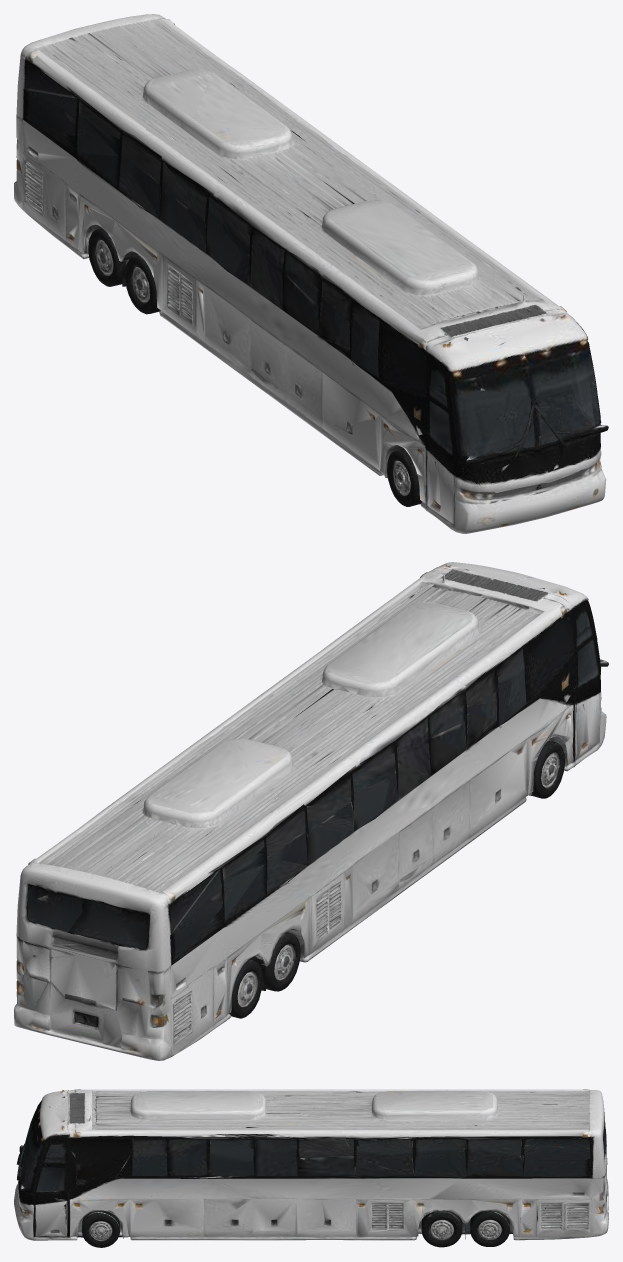
File: midnight_voyager.glb
3 renders of one model, top to bottom at view 1: azimuth 30°, elevation 25°; view 2: azimuth 150°, elevation 25°; view 3: azimuth 270°, elevation 25°, orthographic. The views are drawn at different scales.
Parts seen in each view (by area): view 1: body, wheel_FR, wheel_RR2, wheel_RR; view 2: body, wheel_FR, wheel_RR, wheel_RR2; view 3: body, wheel_RL2, wheel_FL, wheel_RL.
Boxes of the visible parts, x1,y1,x2,y2 form: body: (14, 14, 608, 533); wheel_FR: (380, 430, 422, 506); wheel_RR2: (83, 208, 122, 286); wheel_RR: (115, 221, 159, 314); body: (14, 562, 608, 1060); wheel_FR: (528, 708, 571, 798); wheel_RR: (262, 911, 304, 990); wheel_RR2: (229, 933, 268, 1018); body: (14, 1089, 608, 1247); wheel_RL2: (465, 1200, 514, 1246); wheel_FL: (77, 1200, 128, 1247); wheel_RL: (418, 1199, 465, 1247).
Size of the model in its own units: 2.25 by 2.7 by 11.73.
1 material, 1 textured.
